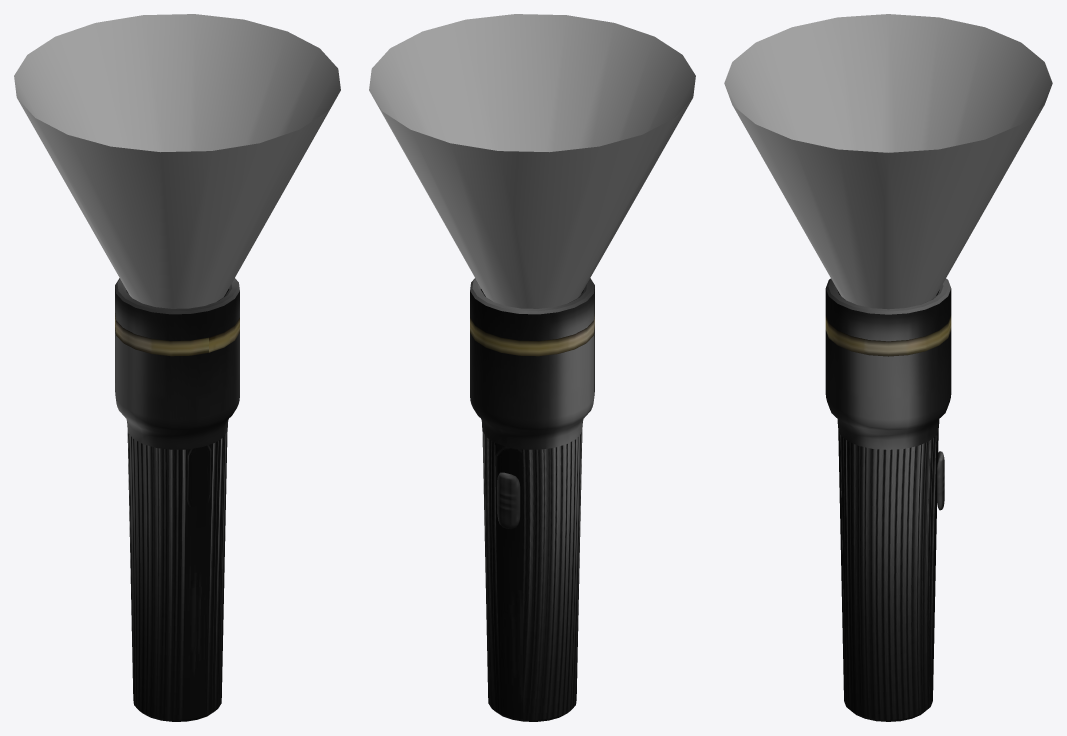
The model's file is flashlight.fbx.
The picture shows the model from 3 angles, left to right: view 1: azimuth 30°, elevation 25°; view 2: azimuth 150°, elevation 25°; view 3: azimuth 270°, elevation 25°; orthographic projection.
Visible parts, largest first — view 1: cone, flashlight; view 2: cone, flashlight; view 3: cone, flashlight.
Part boxes in pixels (left/top/right/bottom): cone: left=14, top=14, right=340, bottom=308; flashlight: left=115, top=278, right=239, bottom=721; cone: left=369, top=14, right=695, bottom=308; flashlight: left=470, top=278, right=594, bottom=721; cone: left=724, top=14, right=1052, bottom=309; flashlight: left=825, top=278, right=951, bottom=721.
Bounding box in the file's own units: 17.27 × 36.06 × 17.27.
